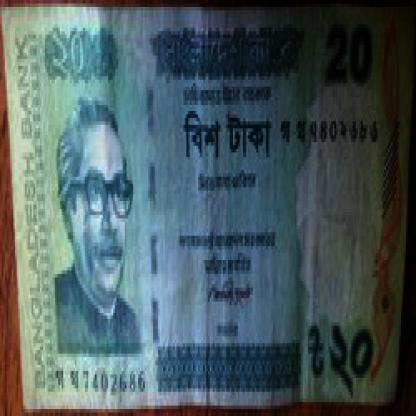Twenty: (308, 316, 381, 395), (180, 108, 273, 160), (43, 28, 123, 86), (324, 17, 380, 90)
